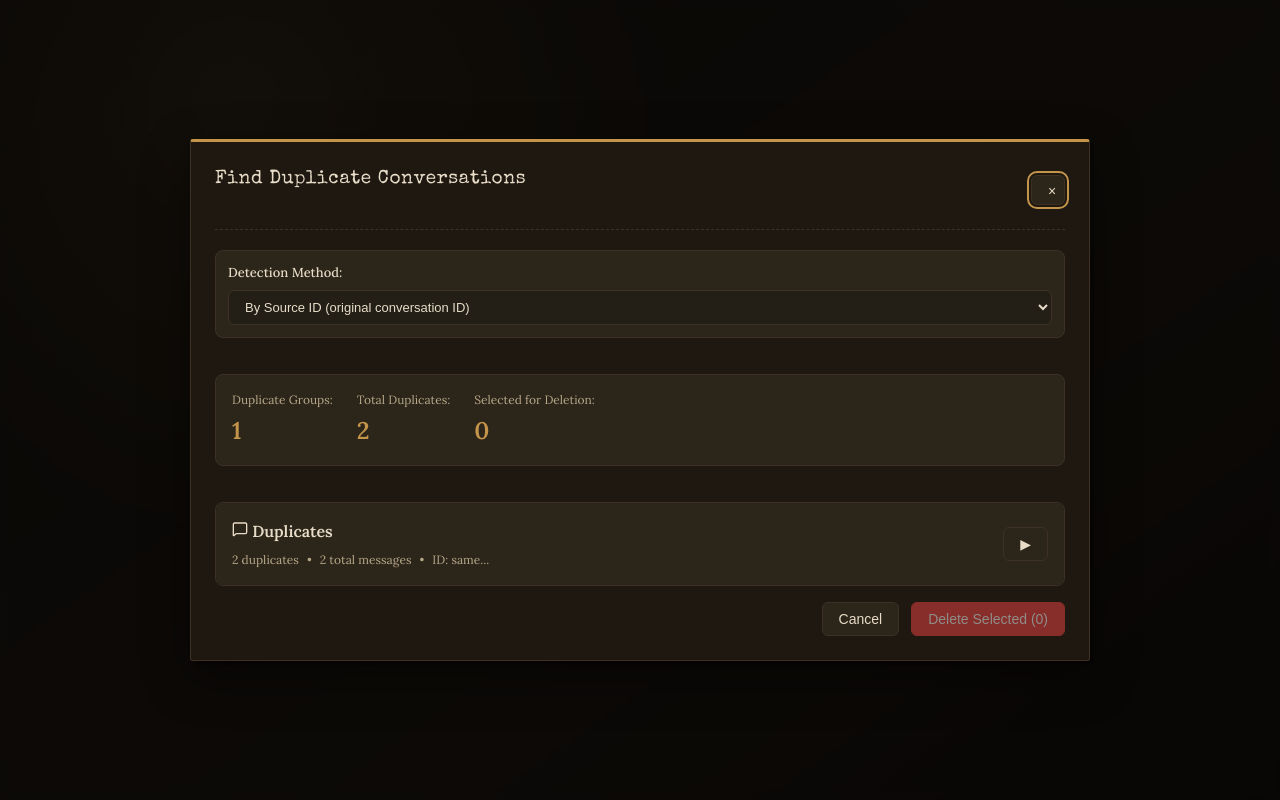
Test case: Contextual action feedback › retains duplicate selection after failure and confirms the exact bulk IDs
This screenshot has width=1280, height=800.
Click the button "Duplicates 2 duplicates • 2 total messages • ID: same... ▶" at (292, 531), box top-left (216, 503), bottom-right (1064, 585)
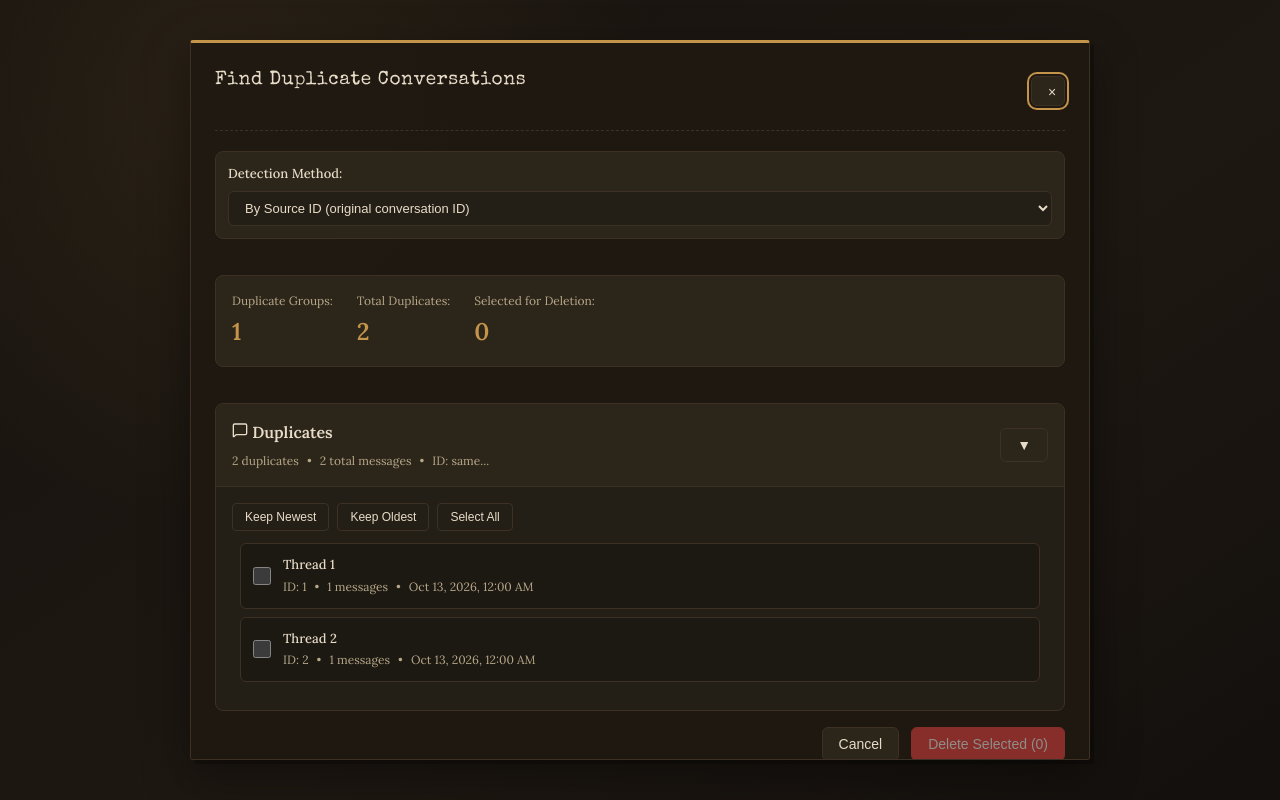
Click the checkbox next to "Thread 2" at (262, 649), box top-left (253, 640), bottom-right (271, 658)
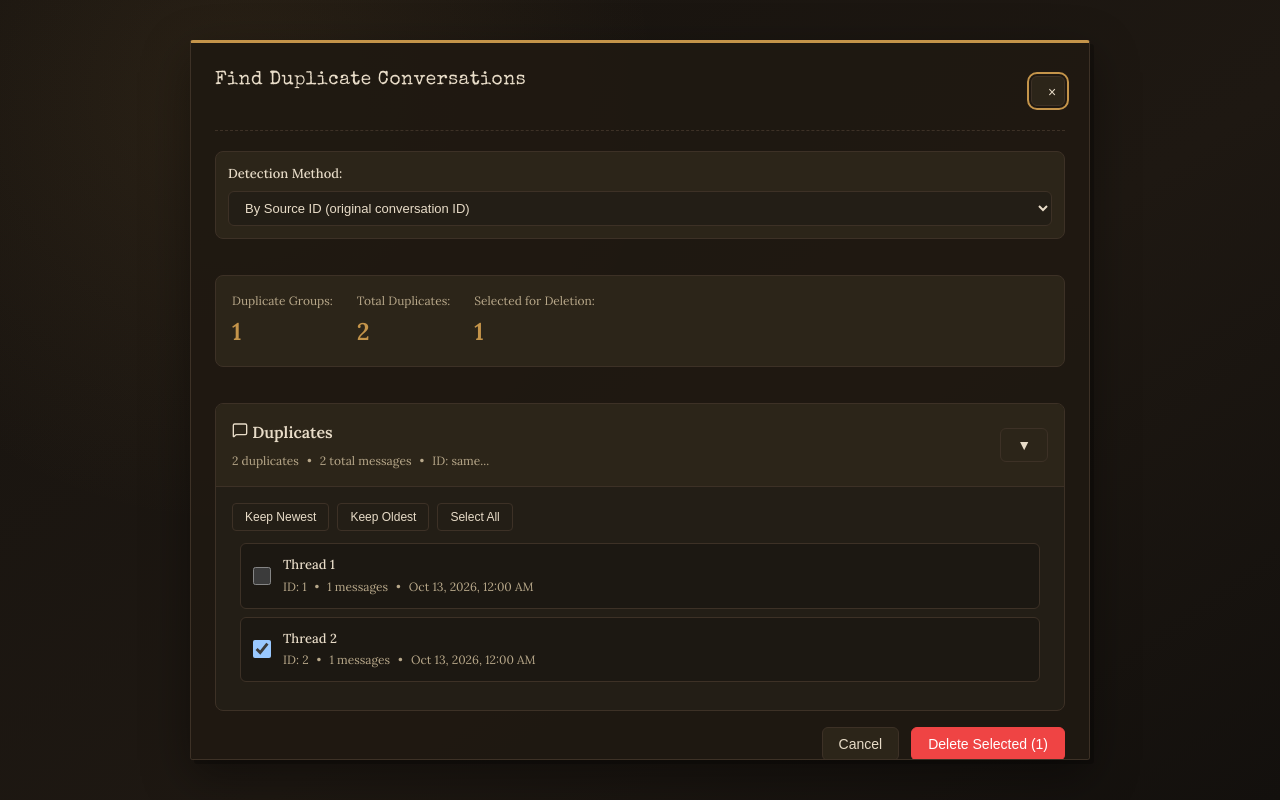
Click the button "Delete Selected (1)" at (988, 744), box top-left (911, 727), bottom-right (1065, 761)
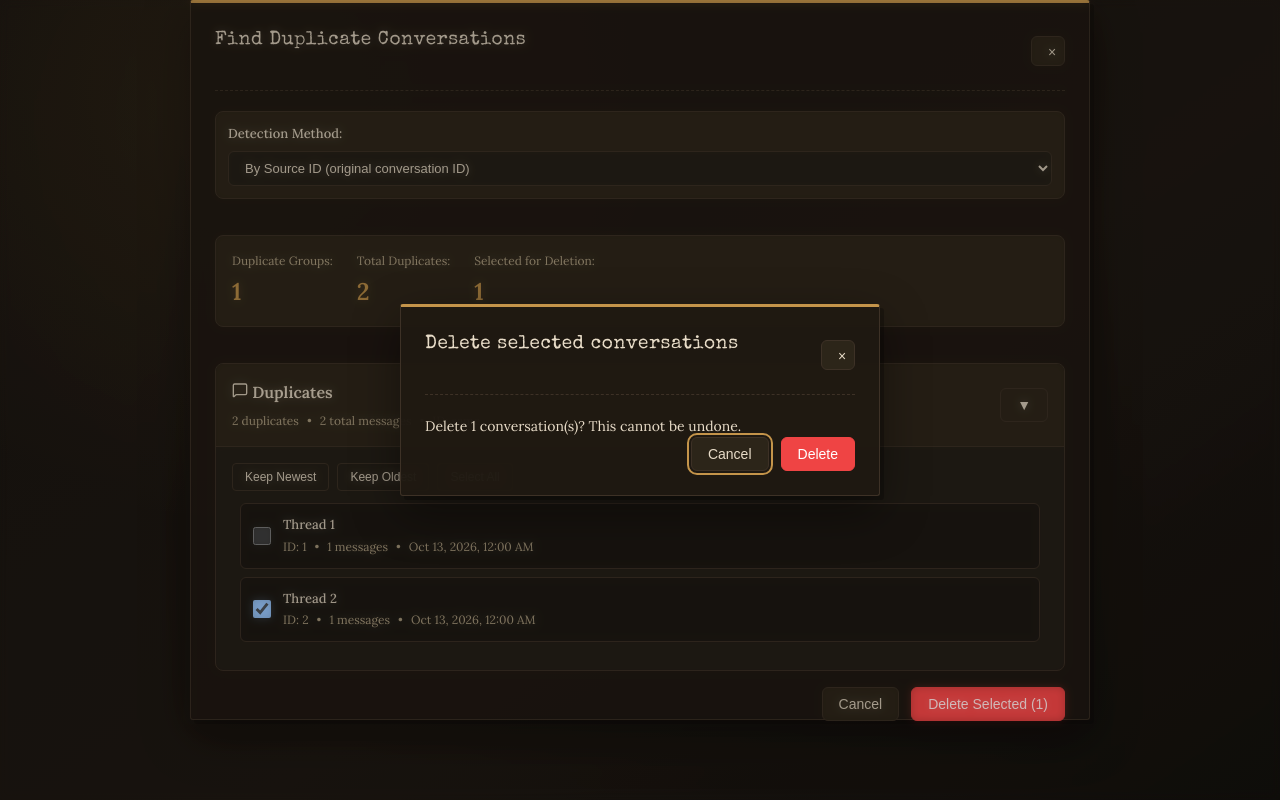
Click the button "Delete" at (818, 454), box top-left (780, 437), bottom-right (855, 471)
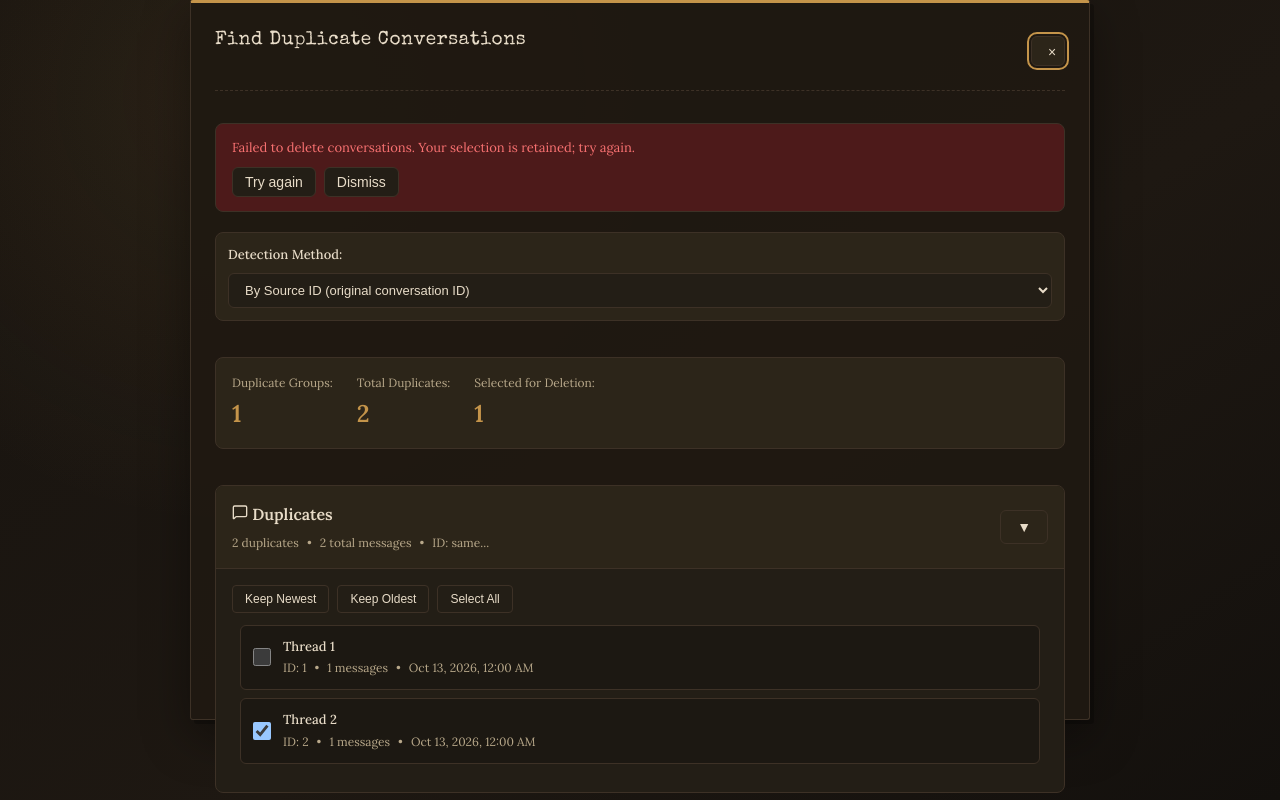
Expected: the checkbox next to "Thread 2" is checked, top-left (253, 722), bottom-right (271, 740)
Expected: the message shows "Your selection is retained", top-left (232, 138), bottom-right (635, 156)
Click the button "Try again" at (274, 182), box top-left (232, 167), bottom-right (316, 197)
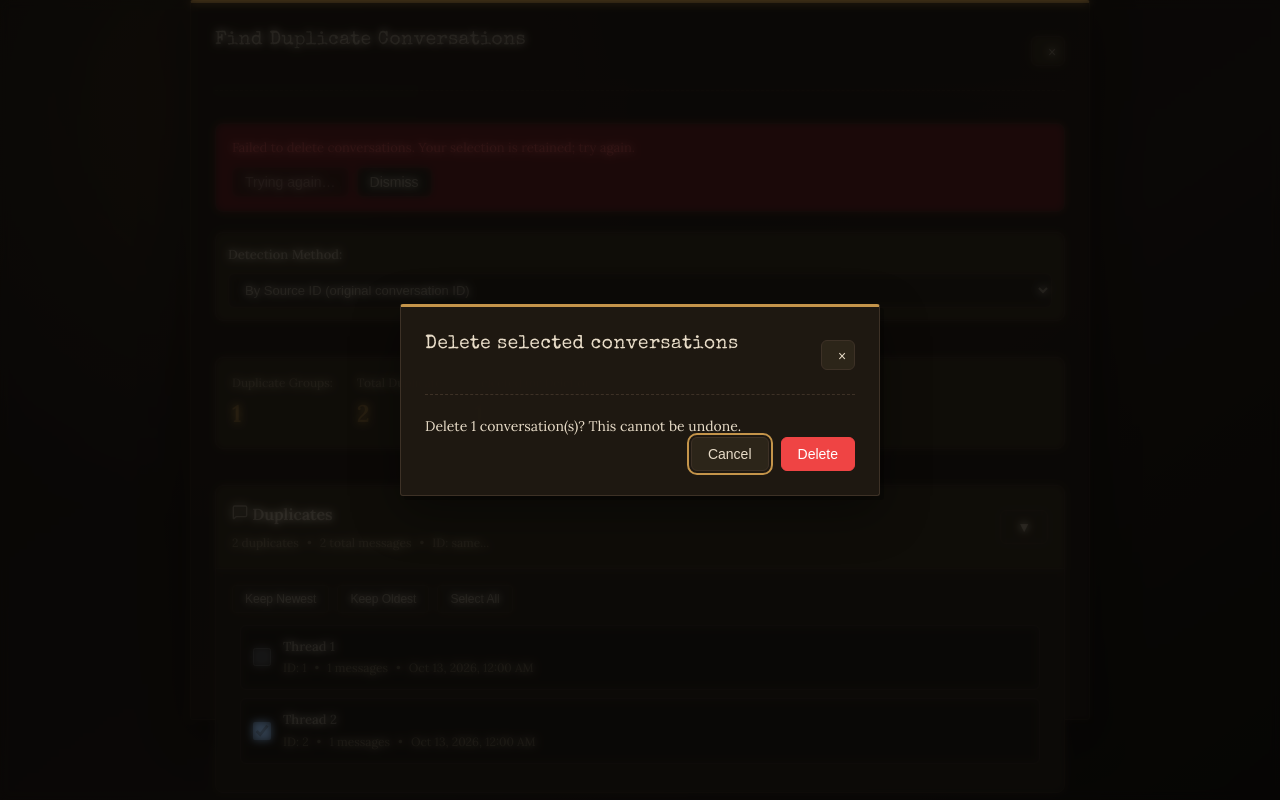
Click the button "Delete" at (818, 454), box top-left (780, 437), bottom-right (855, 471)
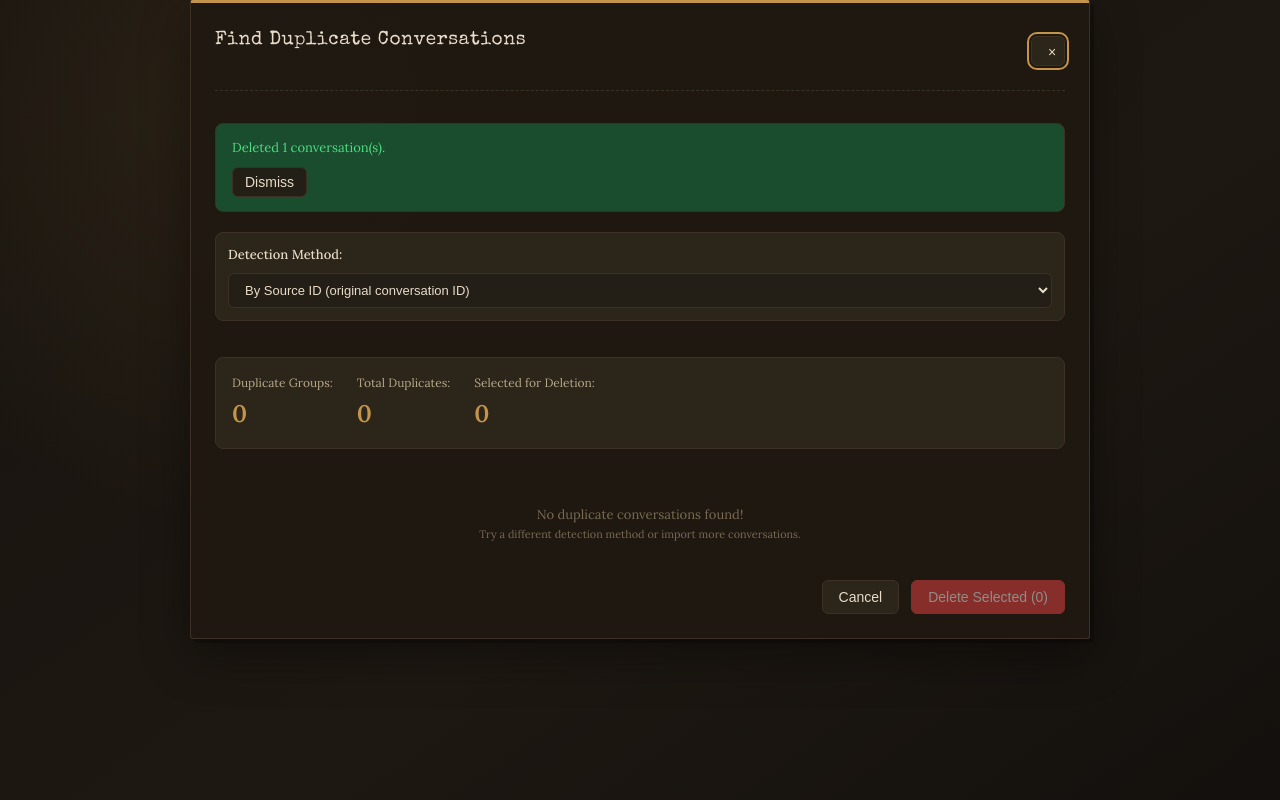
Expected: the message shows "Deleted 1 conversation(s).", top-left (232, 138), bottom-right (385, 156)
